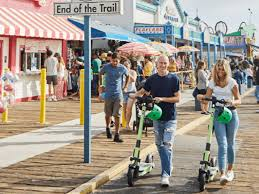kick_neck: (132, 108, 145, 158)
kick_wheel: (198, 168, 208, 189), (127, 165, 136, 185)
